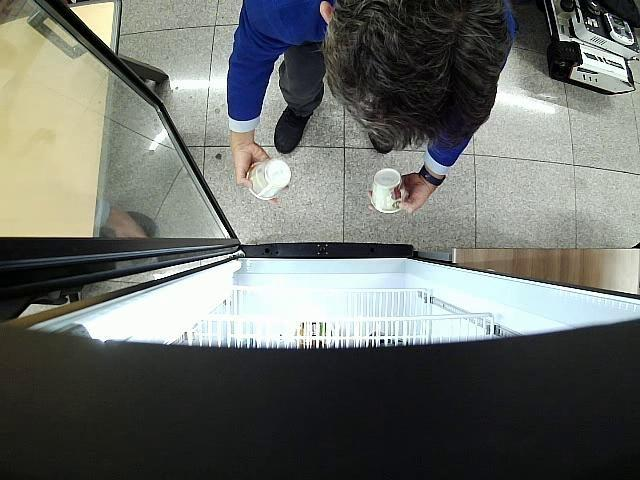04_chapagetti_S: (246, 159, 292, 200), (372, 169, 409, 213)
